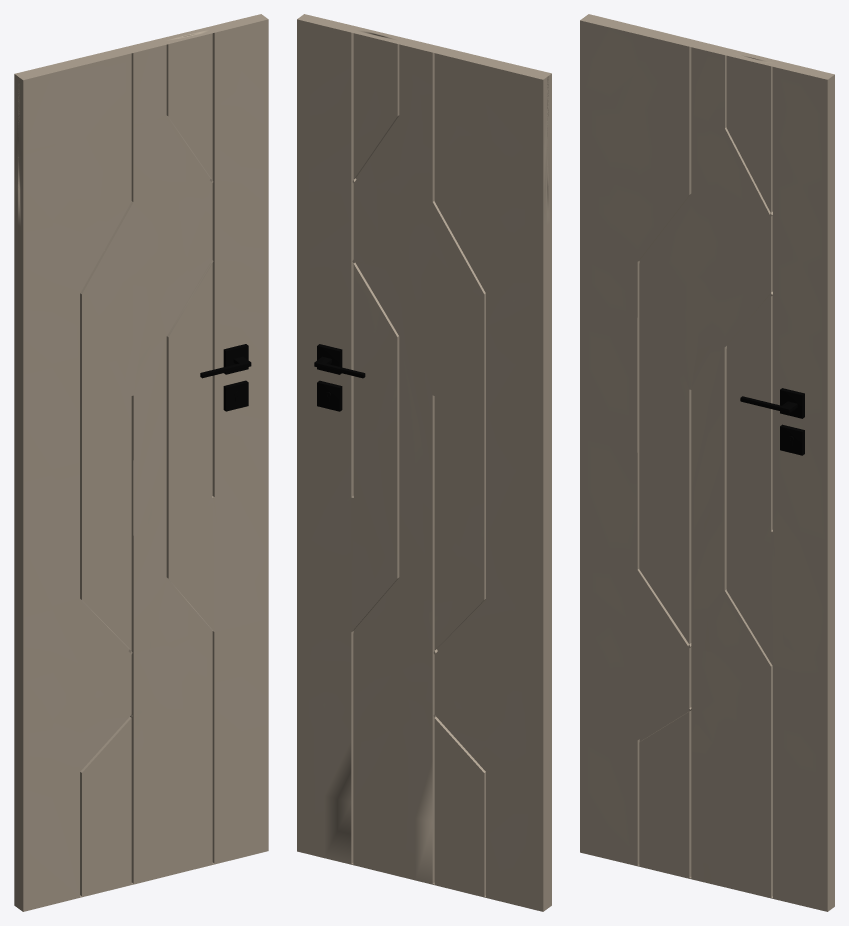
Rendered from RP_2_3a_door.glb.
3 views of the same model, side by side, from view 1: azimuth 30°, elevation 25°; view 2: azimuth 150°, elevation 25°; view 3: azimuth 330°, elevation 25° (orthographic).
Visible parts, largest first — view 1: RP_2__2_door_1; view 2: RP_2__2_door_1; view 3: RP_2__2_door_1.
Part boxes in pixels (x1,y1,x2,y2): RP_2__2_door_1: (14, 14, 268, 911); RP_2__2_door_1: (297, 14, 551, 911); RP_2__2_door_1: (580, 14, 834, 911).
Bounding box in the file's own units: 0.5467 × 1.76 × 0.1088.
Materials: 1 (1 with a texture image).
